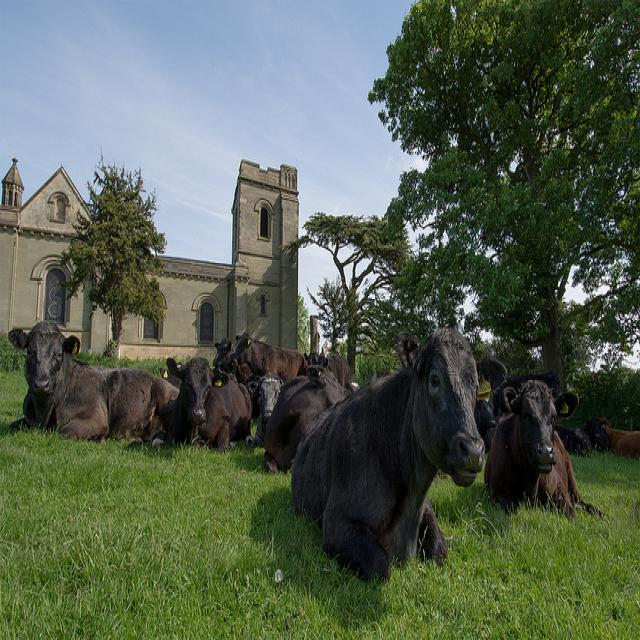cow: (289, 324, 510, 589), (5, 319, 181, 449), (482, 377, 602, 515), (264, 364, 371, 473), (163, 355, 253, 449), (228, 329, 307, 379), (251, 371, 282, 445), (211, 334, 253, 382), (303, 349, 349, 389), (473, 395, 502, 449), (615, 428, 638, 457)
